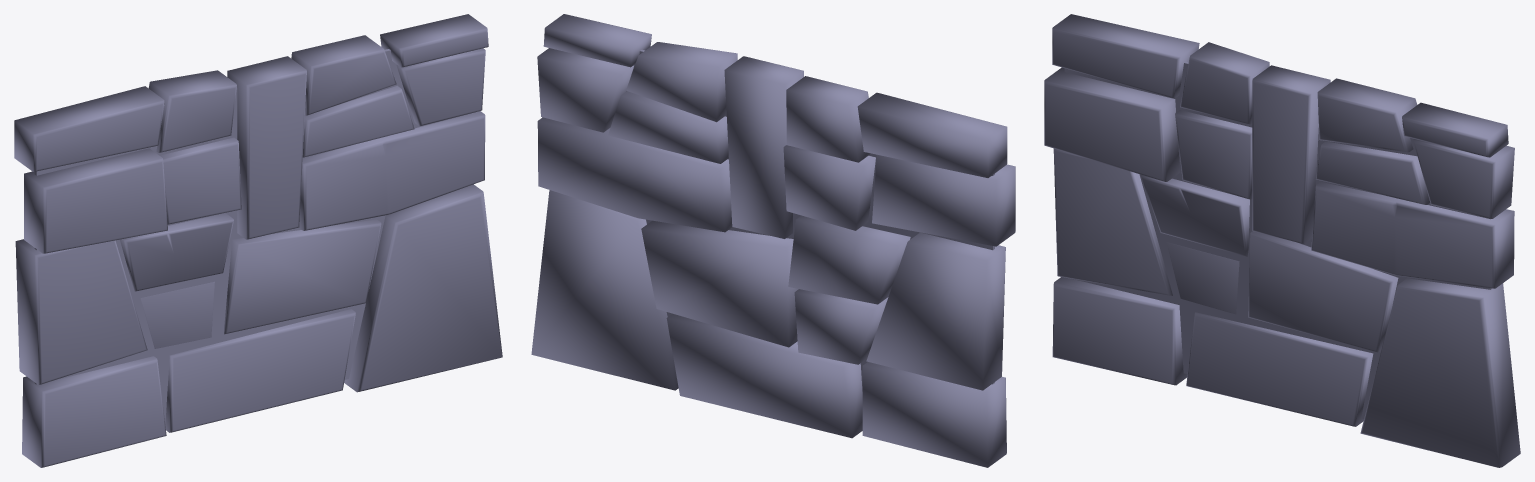
File: stone_walls_fixed.fbx
3 views of the same model, side by side, from view 1: azimuth 30°, elevation 25°; view 2: azimuth 150°, elevation 25°; view 3: azimuth 330°, elevation 25° (orthographic).
Visible parts, largest first — view 1: Cube; view 2: Cube; view 3: Cube.
Part boxes in pixels (x1=…): Cube: x1=14, y1=14, x2=502, y2=467; Cube: x1=531, y1=14, x2=1015, y2=467; Cube: x1=1044, y1=14, x2=1520, y2=467.
Size of the model in its own units: 5.44 by 3.77 by 0.7156.
